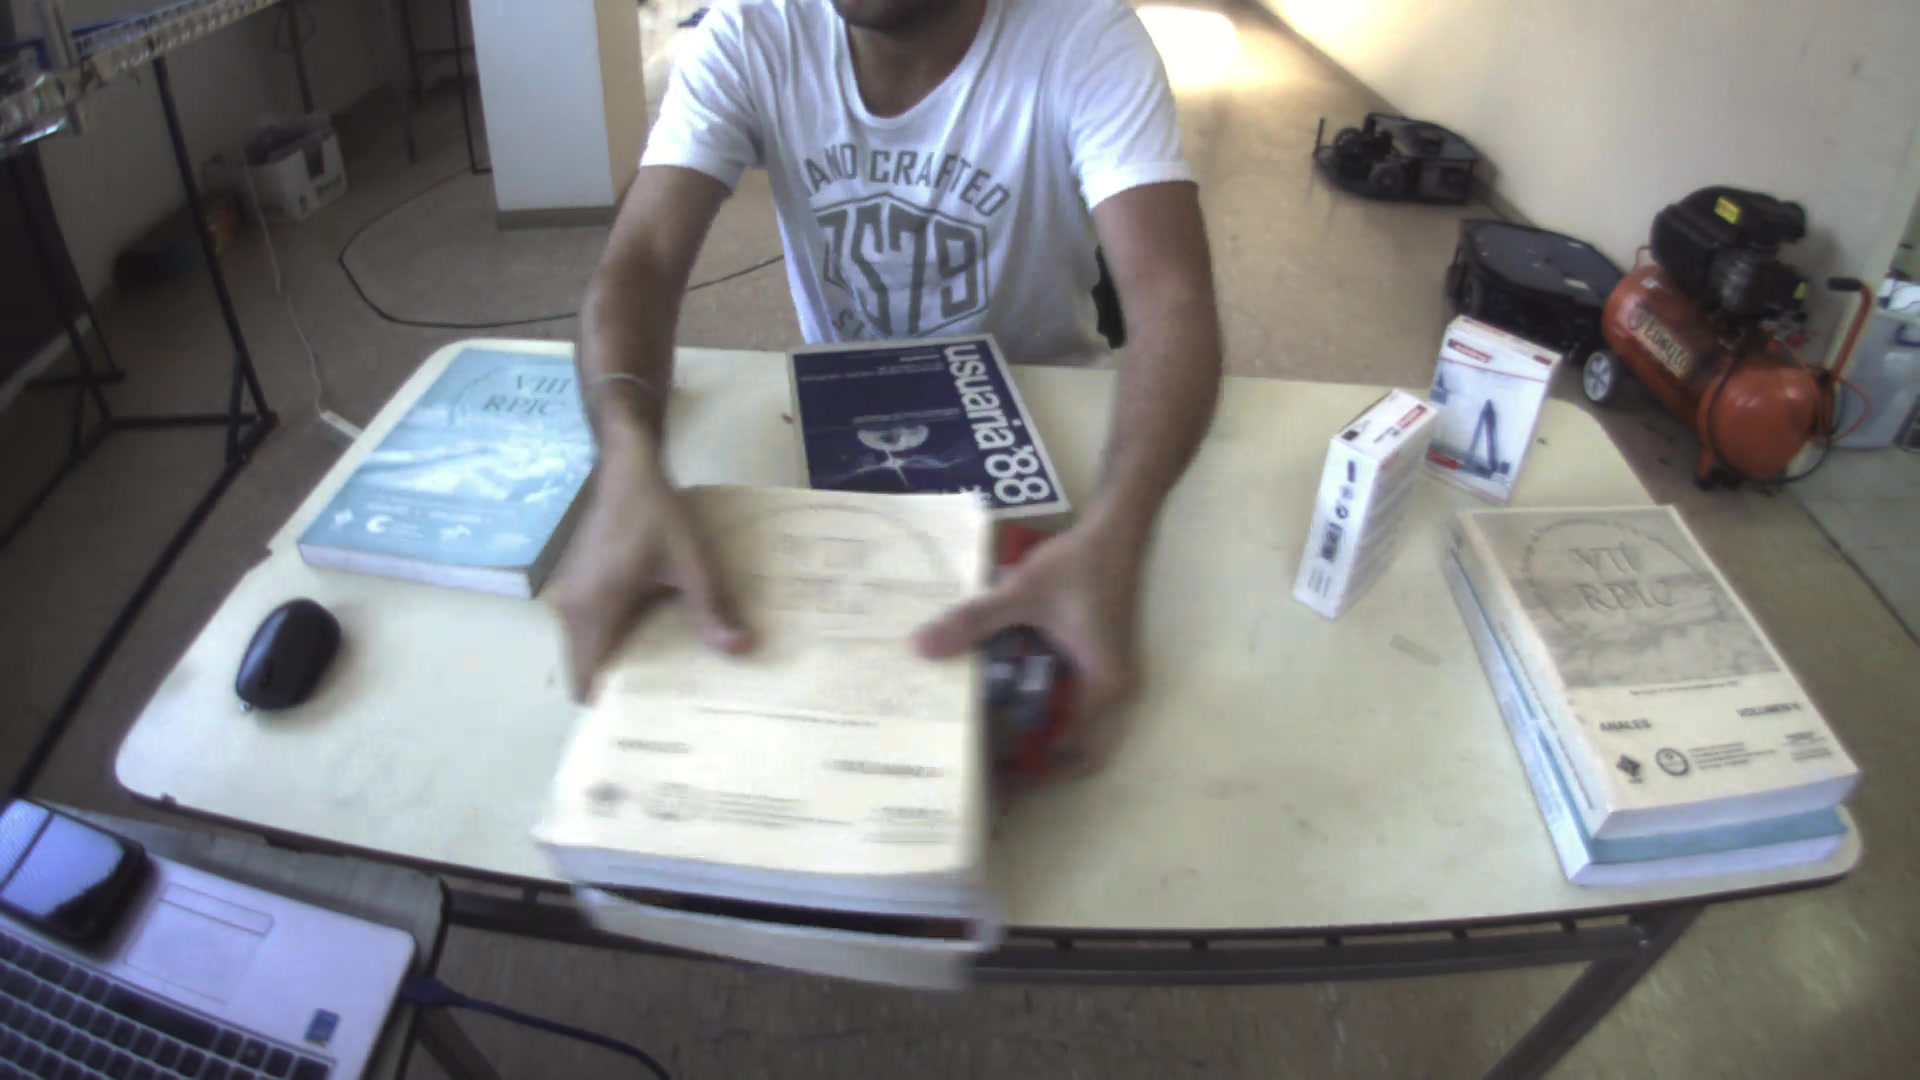hand: (514, 450, 760, 704), (905, 541, 1151, 793)
